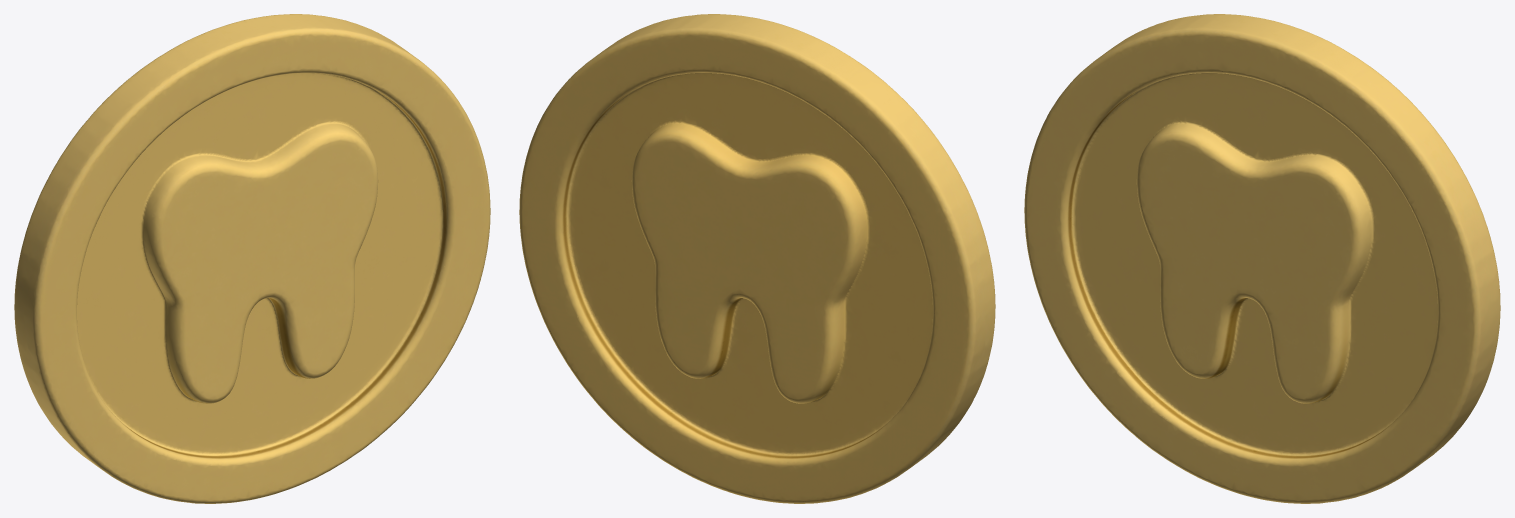
File: molarcoin.glb
3 views of the same model, side by side, from view 1: azimuth 30°, elevation 25°; view 2: azimuth 150°, elevation 25°; view 3: azimuth 330°, elevation 25° (orthographic).
Bounding box in the file's own units: 1.9 × 1.84 × 0.2306.
1 material, 1 textured.
